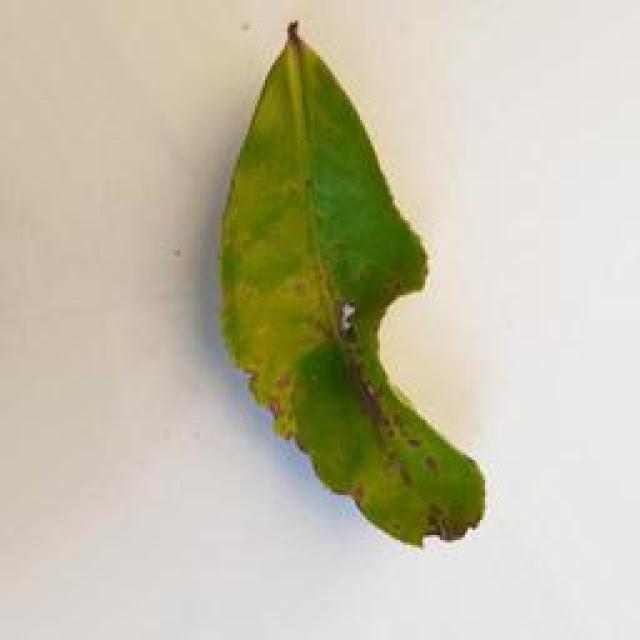Helopeltis: (198, 18, 480, 555)
